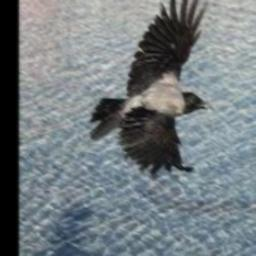Crow: (89, 0, 211, 174)
